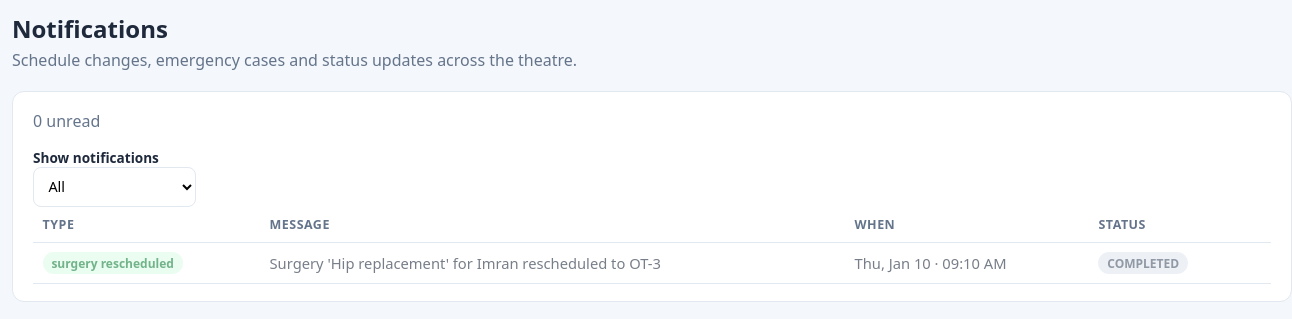
Test: NotificationsPage › filters to emergencies and explains empty results
Expected: the text "Surgery 'Hip replacement' for Imran rescheduled to OT-3" is shown, [260, 242, 845, 283]
Select "Emergencies only" in the dropdown labelled "Show notifications". click: (114, 187)
box: [33, 167, 196, 207]
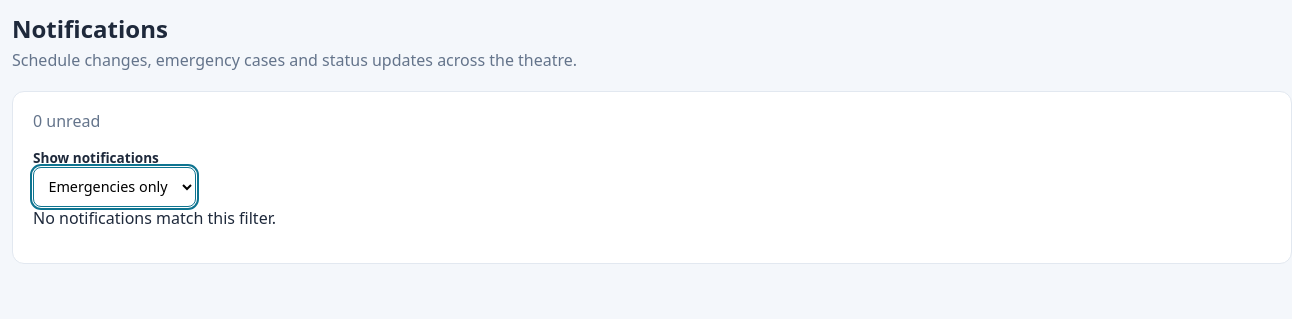
Expected: the text "No notifications match this filter." is shown, [33, 207, 276, 229]
Expected: the text "rescheduled to OT-3" is gone
